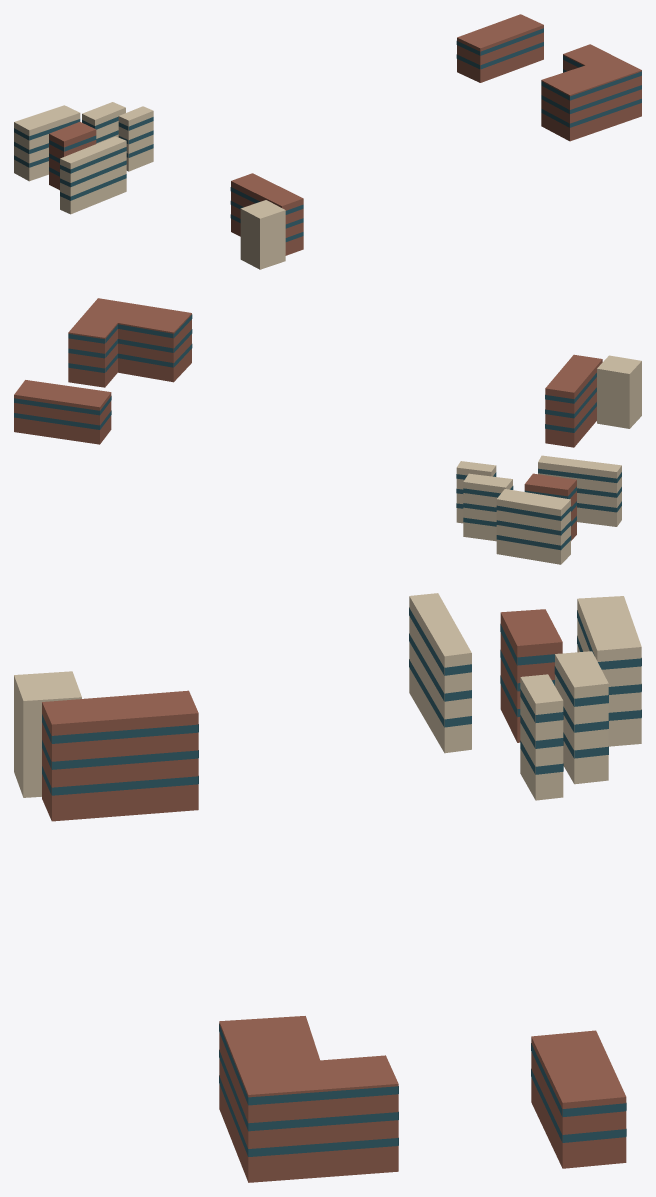
File: city_-1_-8.glb
3 views of the same model, one above another, from view 1: azimuth 30°, elevation 25°; view 2: azimuth 150°, elevation 25°; view 3: azimuth 270°, elevation 25° (orthographic). The views are drawn at different scales.
Parts seen in each view (by area): view 1: city_-1_-8; view 2: city_-1_-8; view 3: city_-1_-8.
Boxes of the visible parts, x1=… form: city_-1_-8: x1=14, y1=14, x2=641, y2=269; city_-1_-8: x1=14, y1=298, x2=641, y2=564; city_-1_-8: x1=14, y1=593, x2=641, y2=1182.
Bounding box in the file's own units: 164 × 15 × 88.09.
